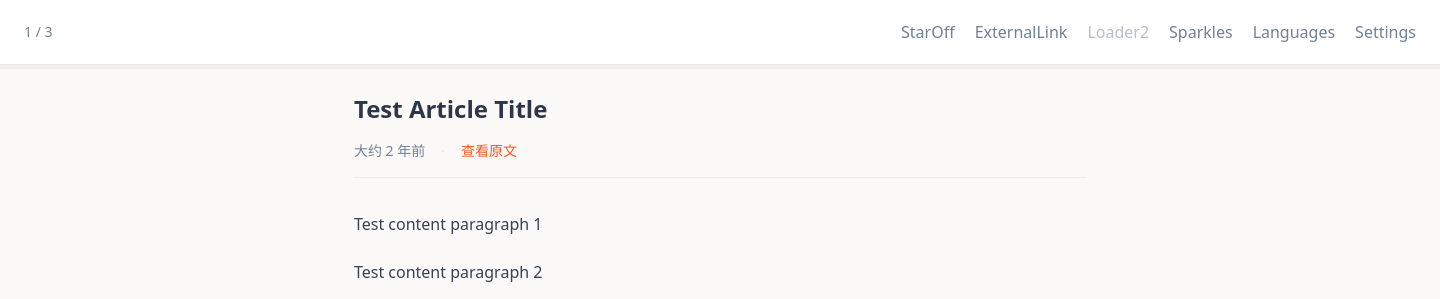
it: ArticleViewer › translate with full content fetch › should fetch full content before translating when feed uses full content
Click the button titled "翻译文章".
click(1294, 32)  # box [1245,12,1343,52]
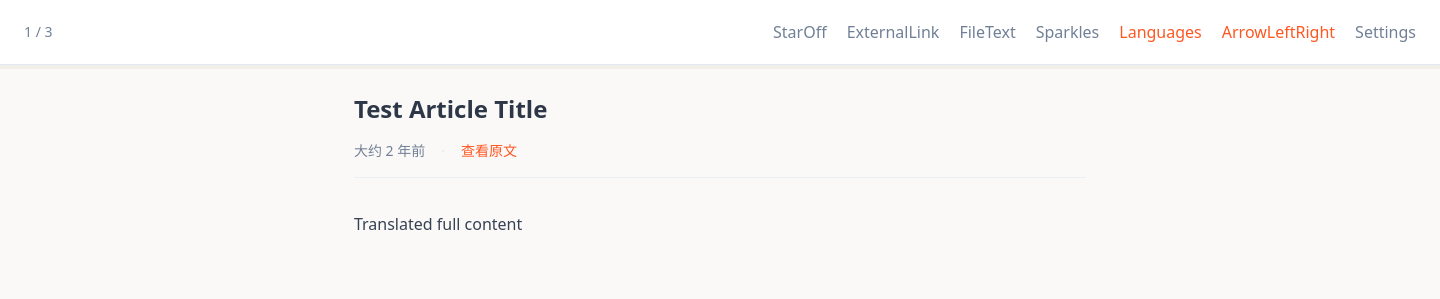
Expected: the text "Translated full content" is shown, [354,213,522,235]
